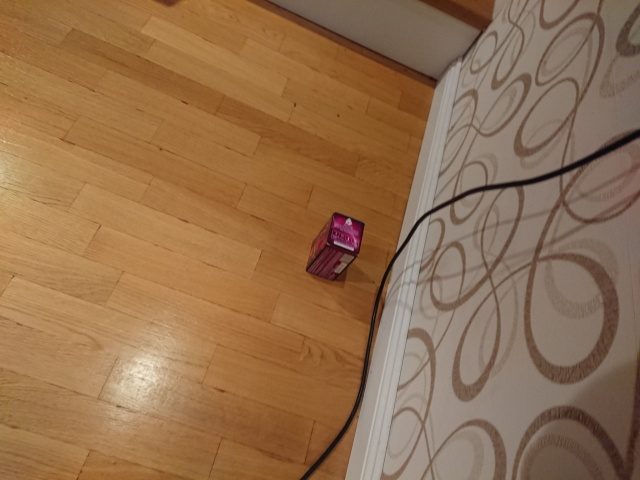Franck Black Currant Tea 60g: (304, 210, 367, 283)
